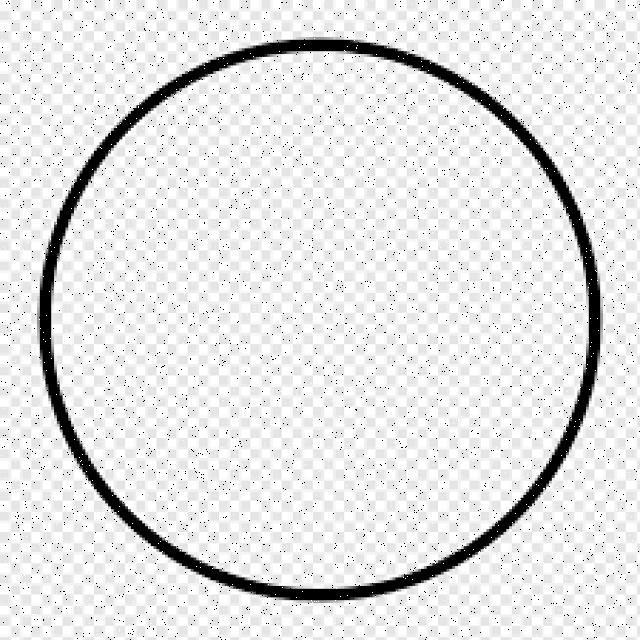Circle: (32, 38, 601, 600)
